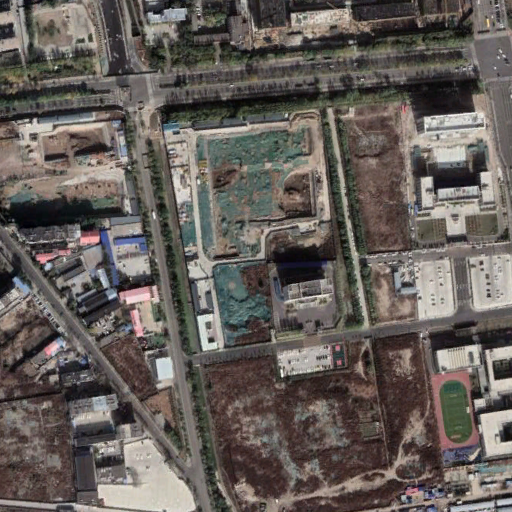cw: (191, 126, 326, 258), (212, 262, 273, 347)
